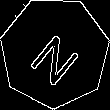N_NE: (24, 20, 86, 85)
